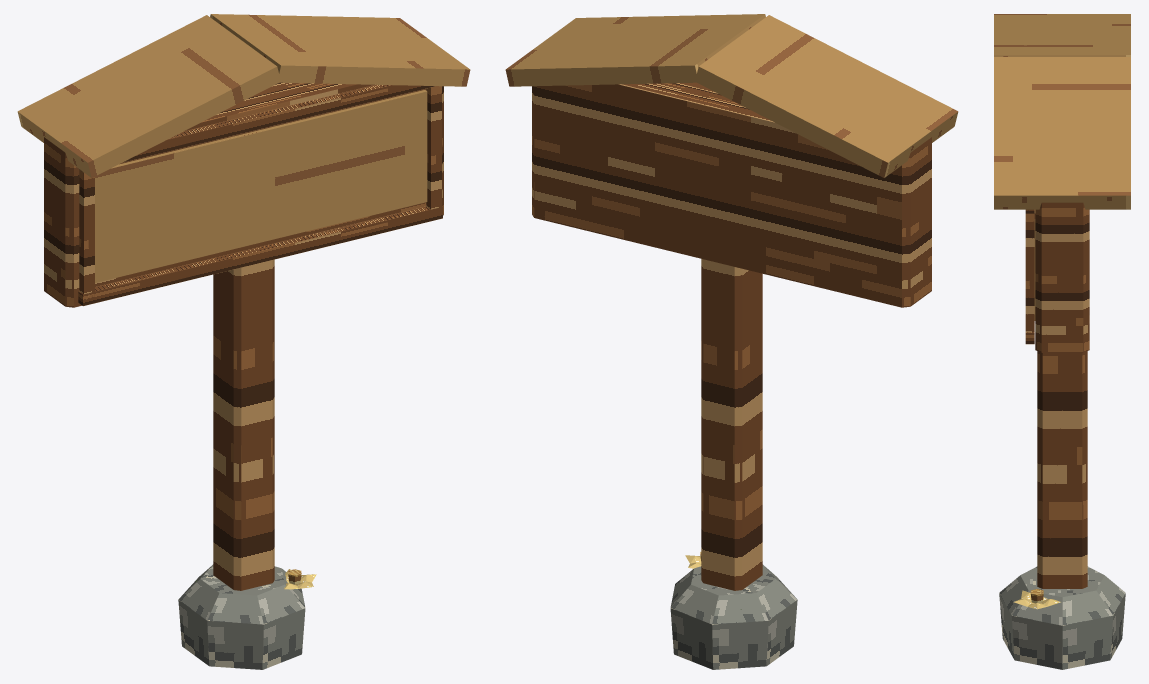
File: zone_signpost.glb
3 renders of one model, left to right at view 1: azimuth 30°, elevation 25°; view 2: azimuth 150°, elevation 25°; view 3: azimuth 270°, elevation 25°, orthographic. The views are drawn at different scales.
Visible parts, largest first — view 1: zone_signpost; view 2: zone_signpost; view 3: zone_signpost.
Boxes of the visible parts, x1=… form: zone_signpost: x1=17, y1=14, x2=470, y2=669; zone_signpost: x1=505, y1=14, x2=958, y2=669; zone_signpost: x1=994, y1=14, x2=1130, y2=669.
Bounding box in the file's own units: 12 × 18 × 4.
Materials: 1 (1 with a texture image).
